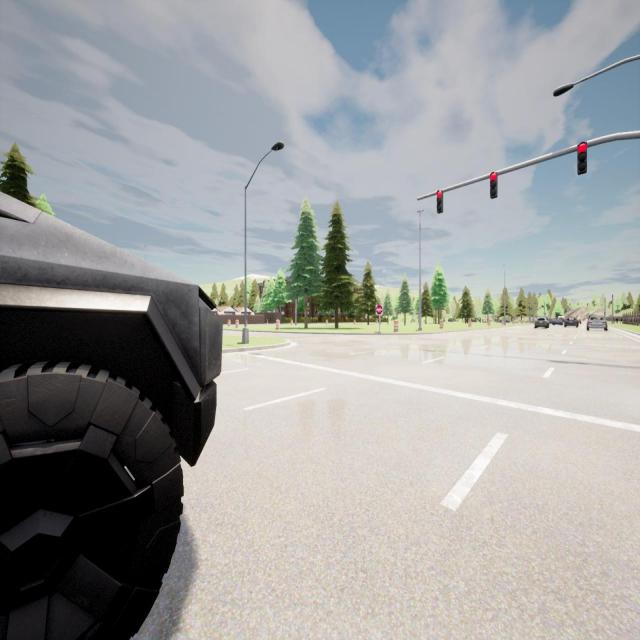Pedestrian: (616, 316, 618, 326)
Traffic_Signs: (375, 304, 383, 316)
Vehicle: (0, 186, 223, 639), (586, 315, 608, 331), (534, 316, 550, 329), (564, 318, 578, 328), (552, 319, 564, 325), (550, 319, 552, 324)
traffic_light: (577, 142, 587, 175), (490, 172, 498, 199), (437, 190, 443, 213)
